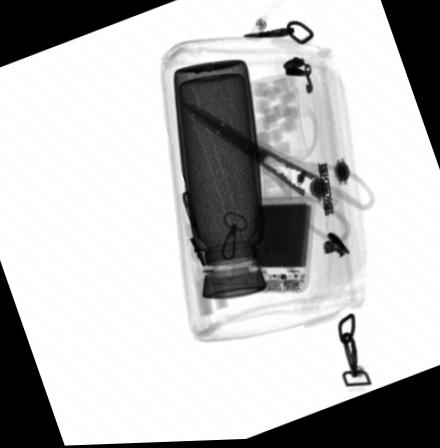Powerbank: (232, 197, 311, 296)
Scissors: (178, 101, 374, 246)
